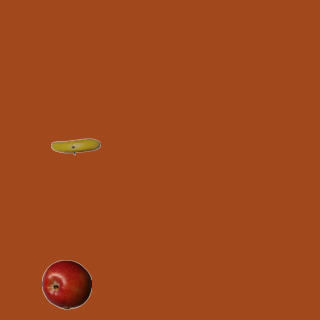Apple Braeburn: (41, 259, 91, 309)
Banana: (50, 121, 100, 171)
